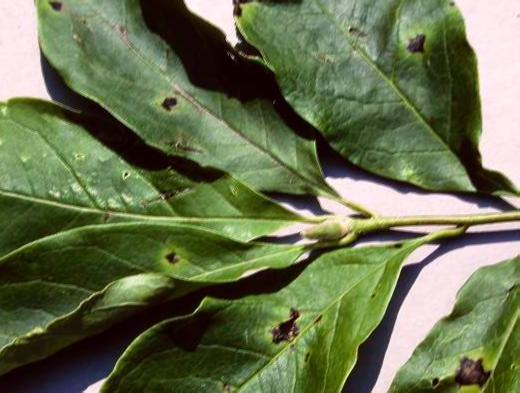Tomato leaf bacterial spot: (28, 0, 371, 211), (70, 231, 414, 393), (0, 227, 301, 393), (375, 236, 520, 393)
